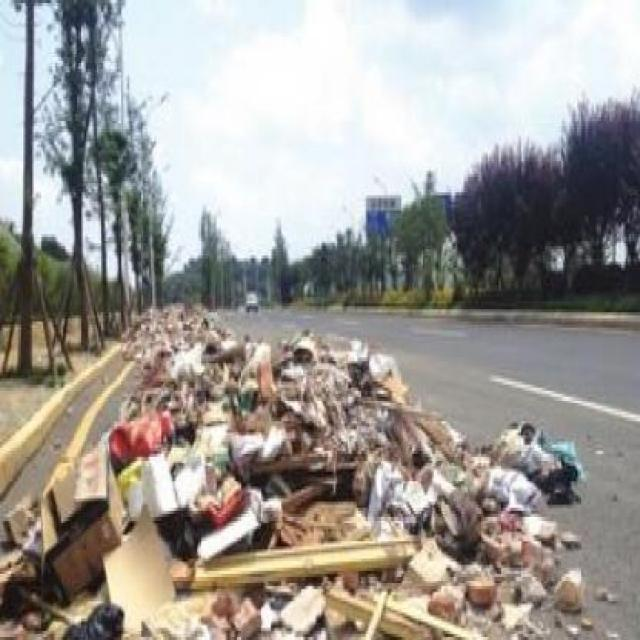garbage: (106, 418, 579, 554), (229, 349, 410, 634), (139, 306, 226, 637), (11, 460, 124, 610)
